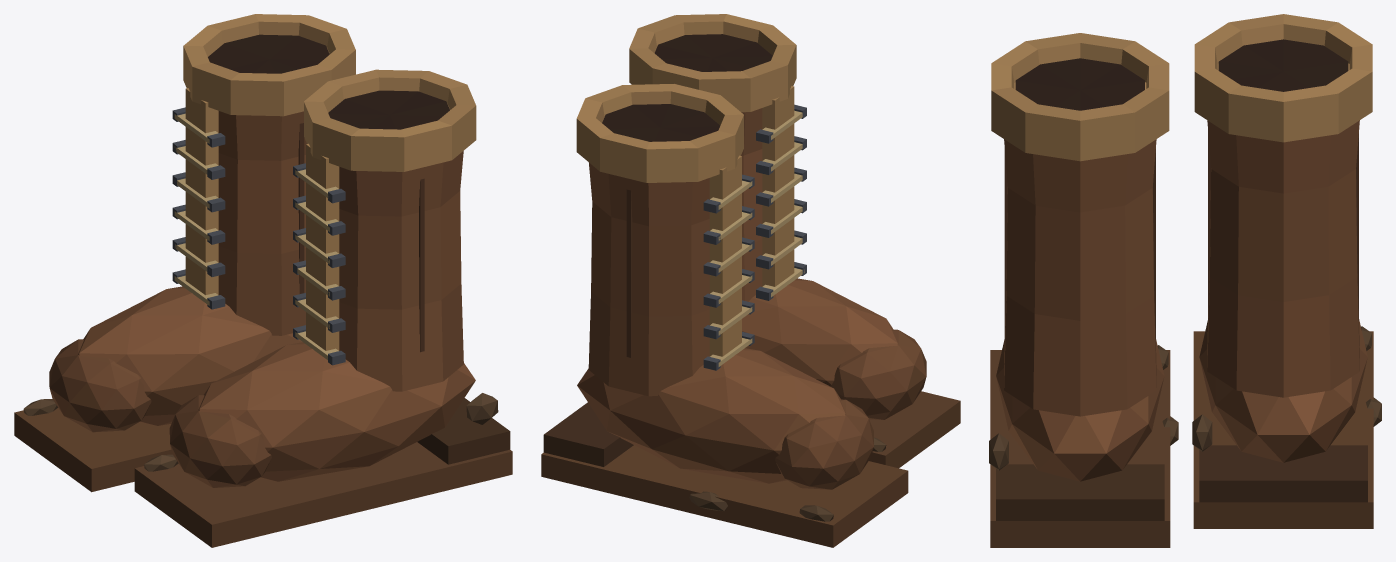
The model's file is Decor_Beanstalk_Boots.fbx.
3 renders of one model, left to right at view 1: azimuth 30°, elevation 25°; view 2: azimuth 150°, elevation 25°; view 3: azimuth 270°, elevation 25°, orthographic. The views are drawn at different scales.
Visible parts, largest first — view 1: Boots_Body; view 2: Boots_Body; view 3: Boots_Body.
Boxes of the visible parts, <box> form: Boots_Body: <box>14,14,512,547</box>; Boots_Body: <box>541,14,960,547</box>; Boots_Body: <box>989,14,1381,547</box>.
Bounding box in the file's own units: 15.1 × 15.7 × 13.2.
